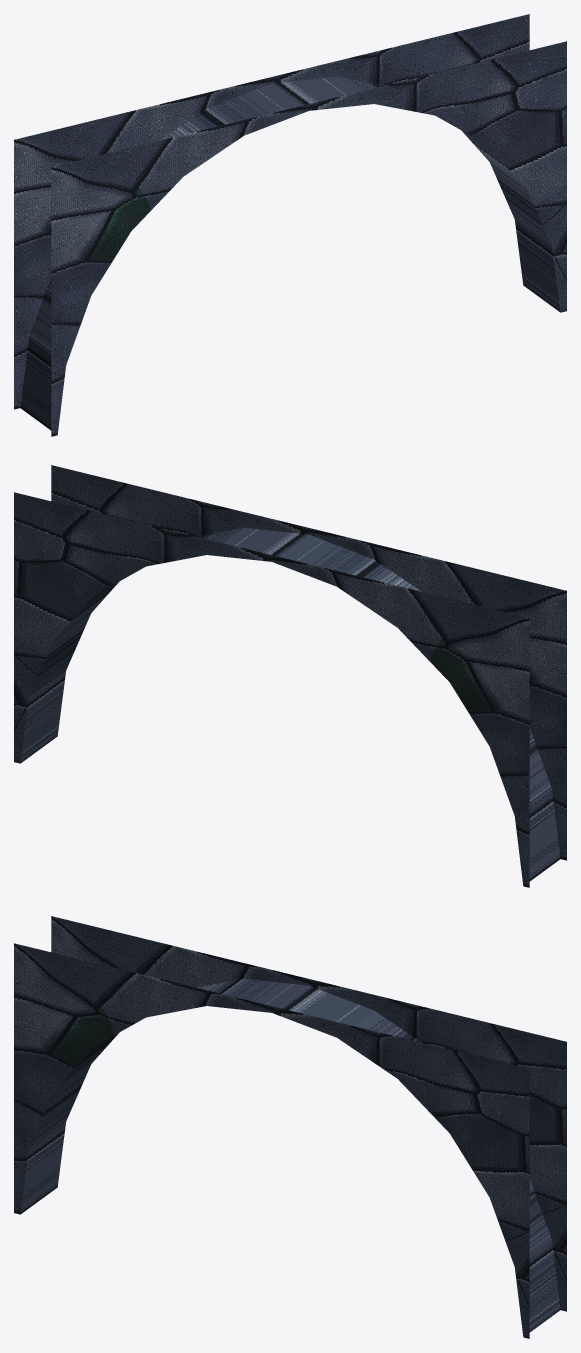
Rendered from SM_Env_WallTympanum_4m.glb.
The picture shows the model from 3 angles, top to bottom: view 1: azimuth 30°, elevation 25°; view 2: azimuth 150°, elevation 25°; view 3: azimuth 330°, elevation 25°; orthographic projection.
Visible parts, largest first — view 1: tympanum; view 2: tympanum; view 3: tympanum.
Boxes of the visible parts, left/top/right/bottom form: tympanum: left=14, top=14, right=566, bottom=436; tympanum: left=14, top=465, right=566, bottom=887; tympanum: left=14, top=916, right=566, bottom=1338.
Size of the model in its own units: 4 by 2 by 0.5.
Materials: 1 (1 with a texture image).
